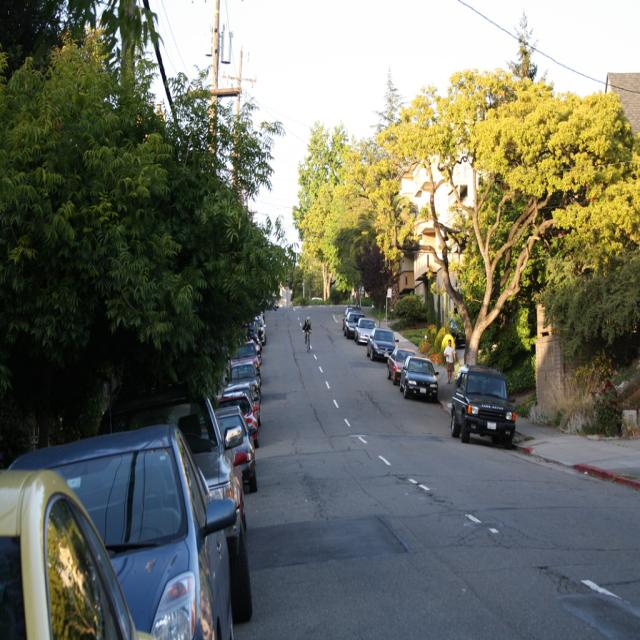car: (449, 360, 514, 448)
